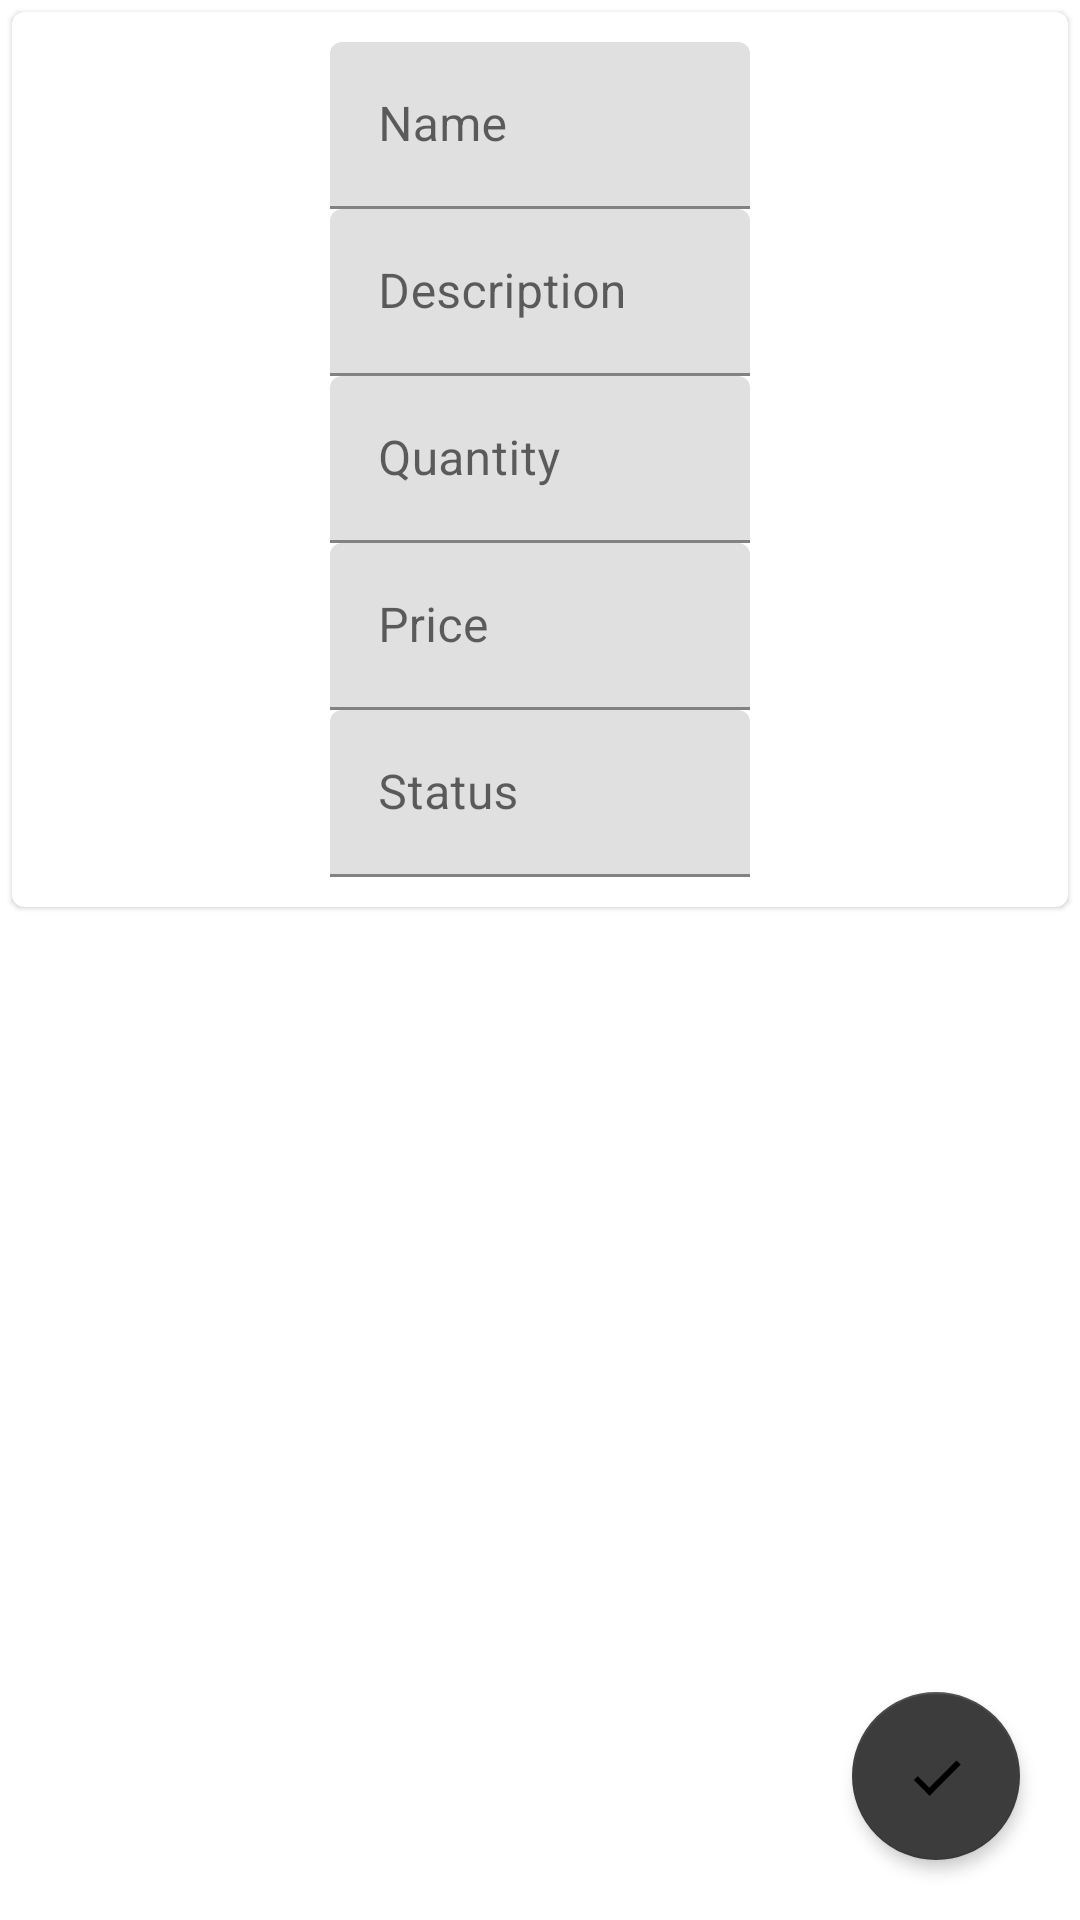

Screen size 1080x1920. Icon name, then its center in pixels as (x=x, y=y):
check: (x=936, y=1776)
